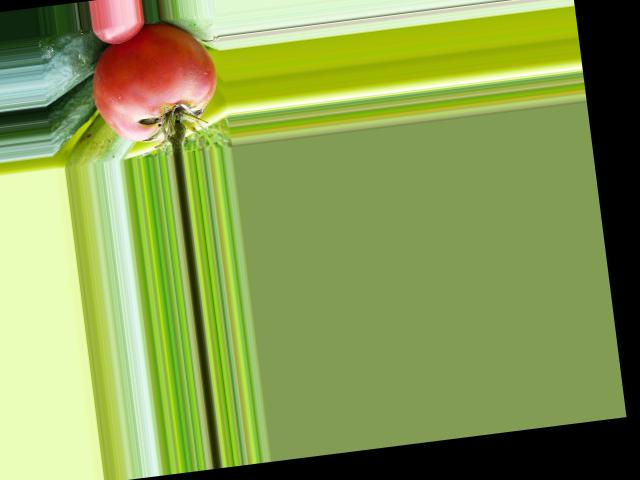tomato: (86, 16, 223, 146)
